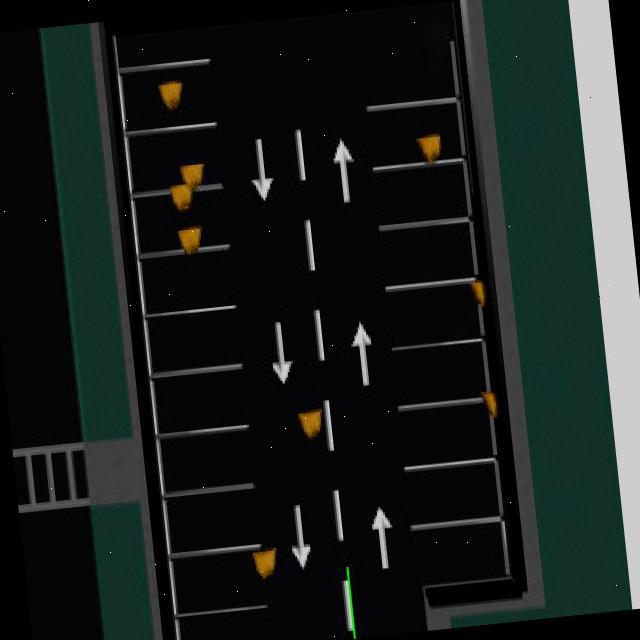garbage-trXY: (249, 547, 278, 578), (295, 413, 325, 441), (156, 79, 182, 111), (176, 162, 208, 187), (415, 136, 445, 161), (467, 277, 489, 306), (175, 230, 205, 251), (168, 188, 196, 210), (482, 388, 496, 413)
